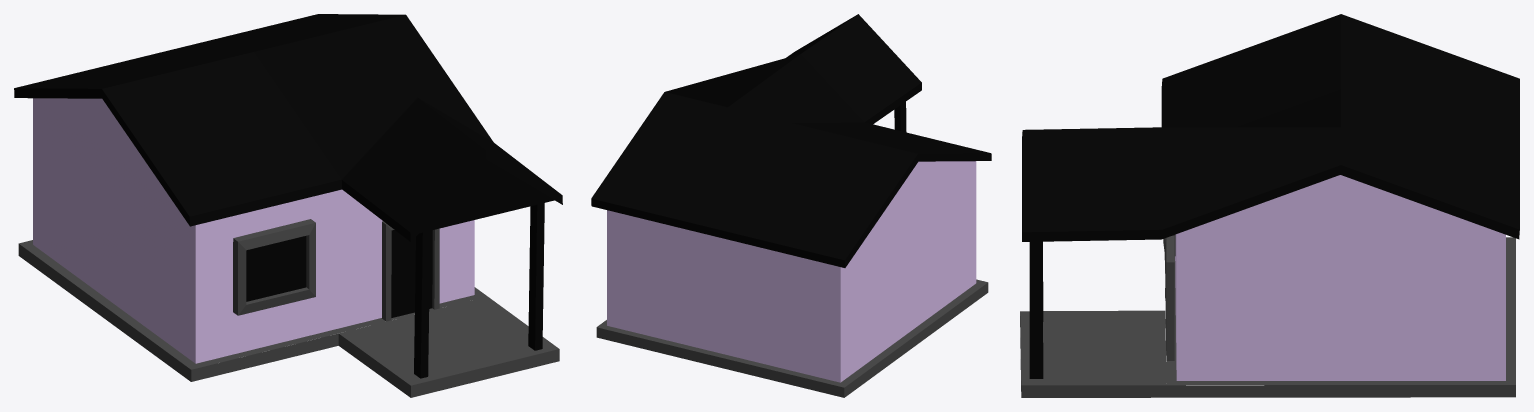
The model's file is 1house (4).fbx.
The picture shows the model from 3 angles, left to right: view 1: azimuth 30°, elevation 25°; view 2: azimuth 150°, elevation 25°; view 3: azimuth 270°, elevation 25°; orthographic projection. The views are drawn at different scales.
Visible parts, largest first — view 1: Plane; view 2: Plane; view 3: Plane.
Part boxes in pixels (<box>): Plane: <box>14,14,562,397</box>; Plane: <box>591,14,991,397</box>; Plane: <box>1020,14,1519,397</box>.
Size of the model in its own units: 200 by 145 by 280.
